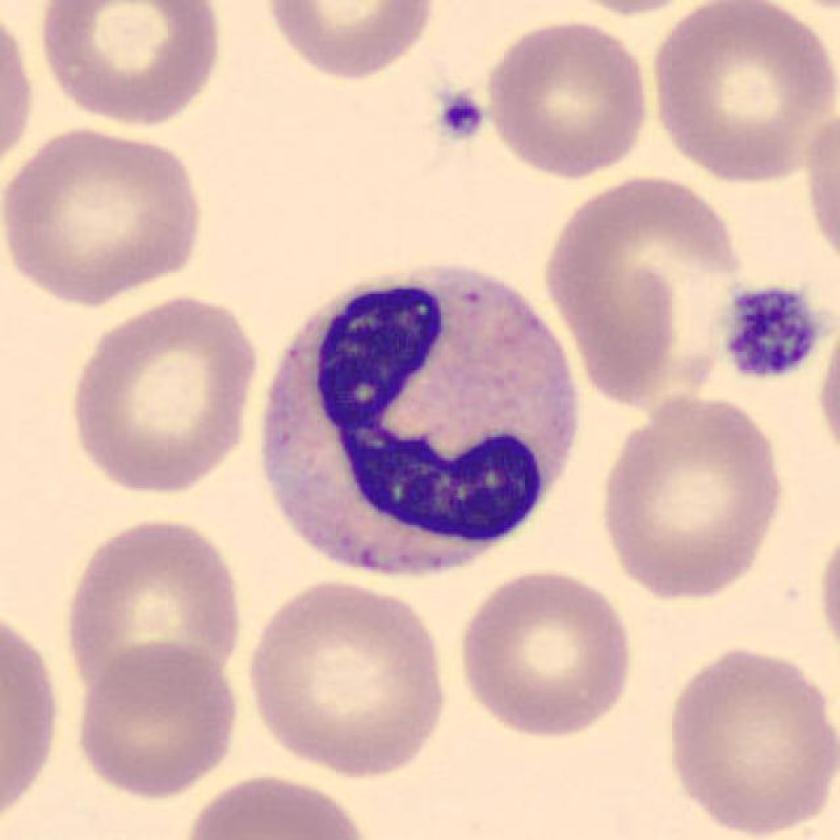neutrophil: (264, 266, 581, 577)
